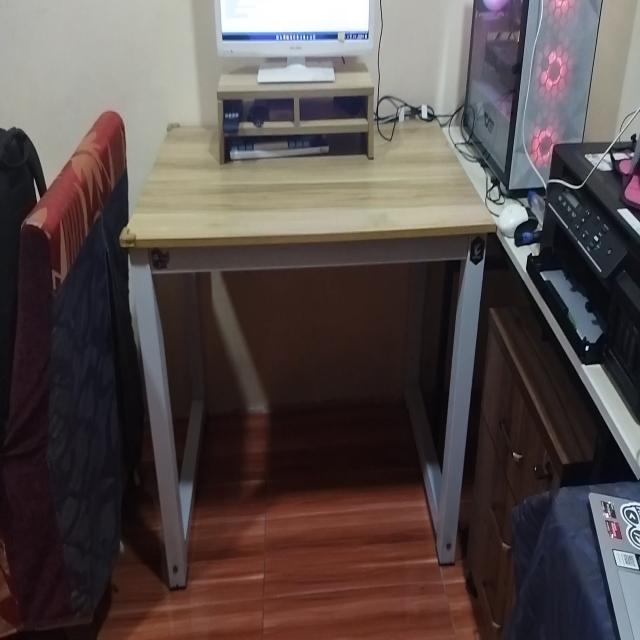table: (119, 110, 492, 589)
